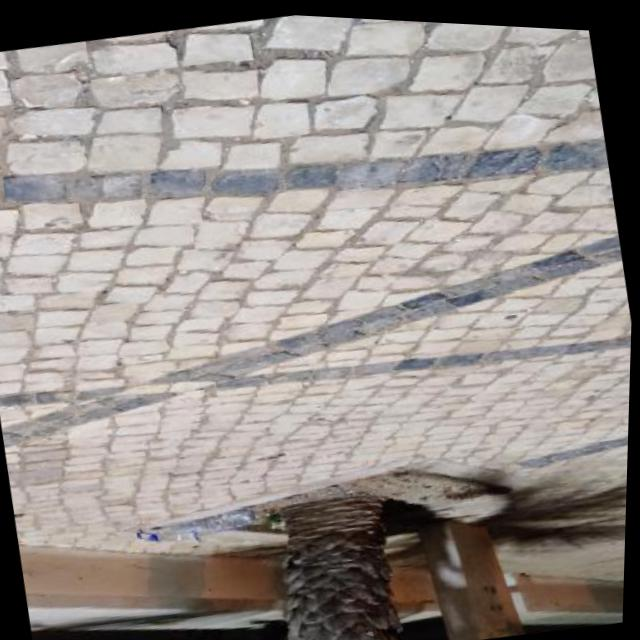plastic: (135, 500, 258, 551)
